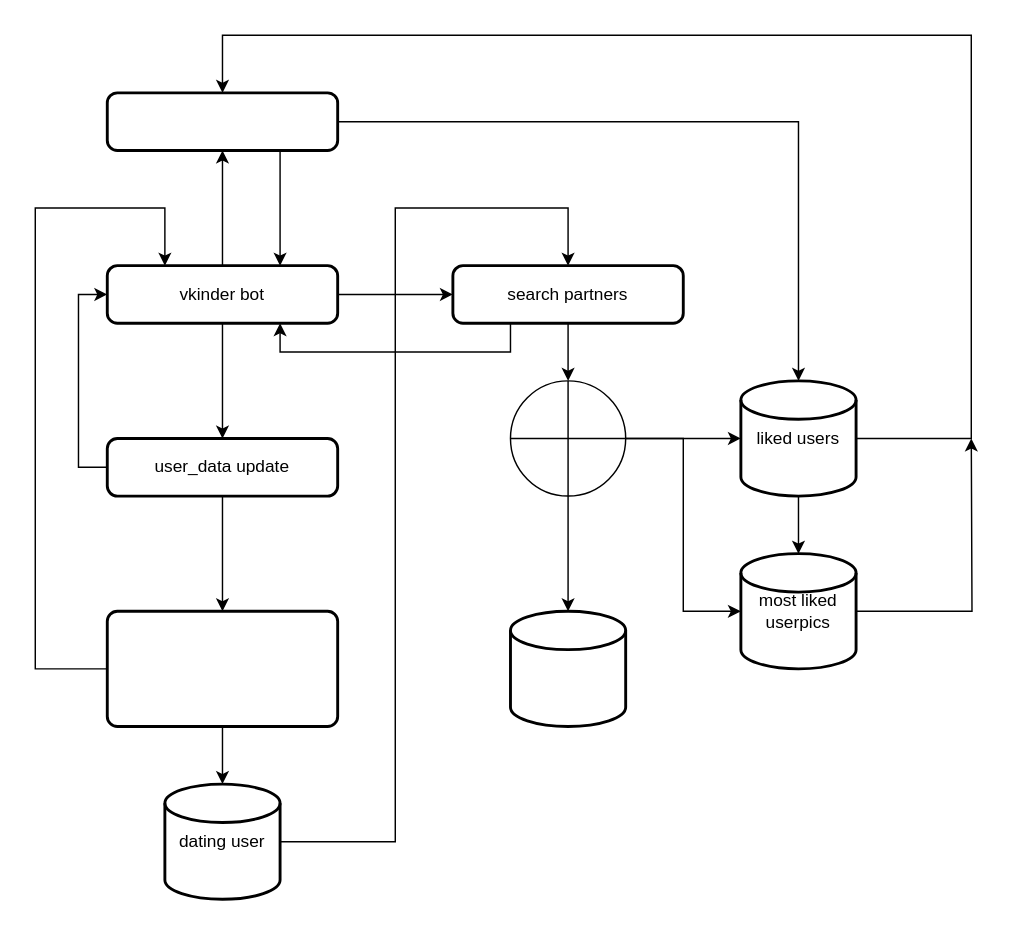
Some shapes in this 1009 by 926 pixel diagram are drawn without their labels. Here are the shapes that lost their labels. From the top down, the box of each, then its label:
(105, 91, 338, 151): see liked users
(105, 609, 338, 727): city age_range
(508, 609, 626, 727): blacklisted users
